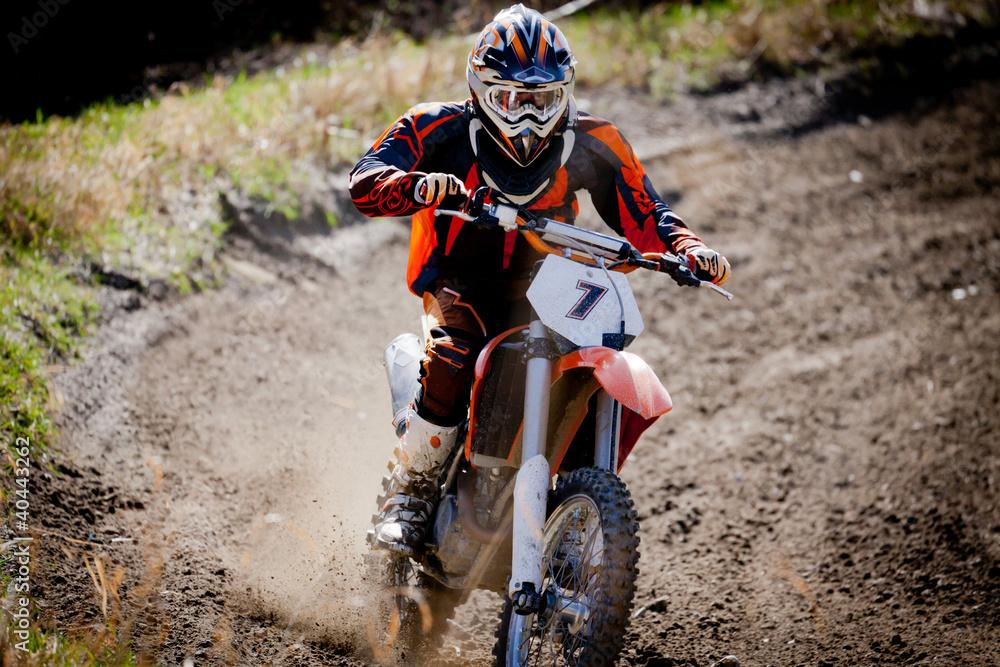helmet: (465, 1, 578, 174)
